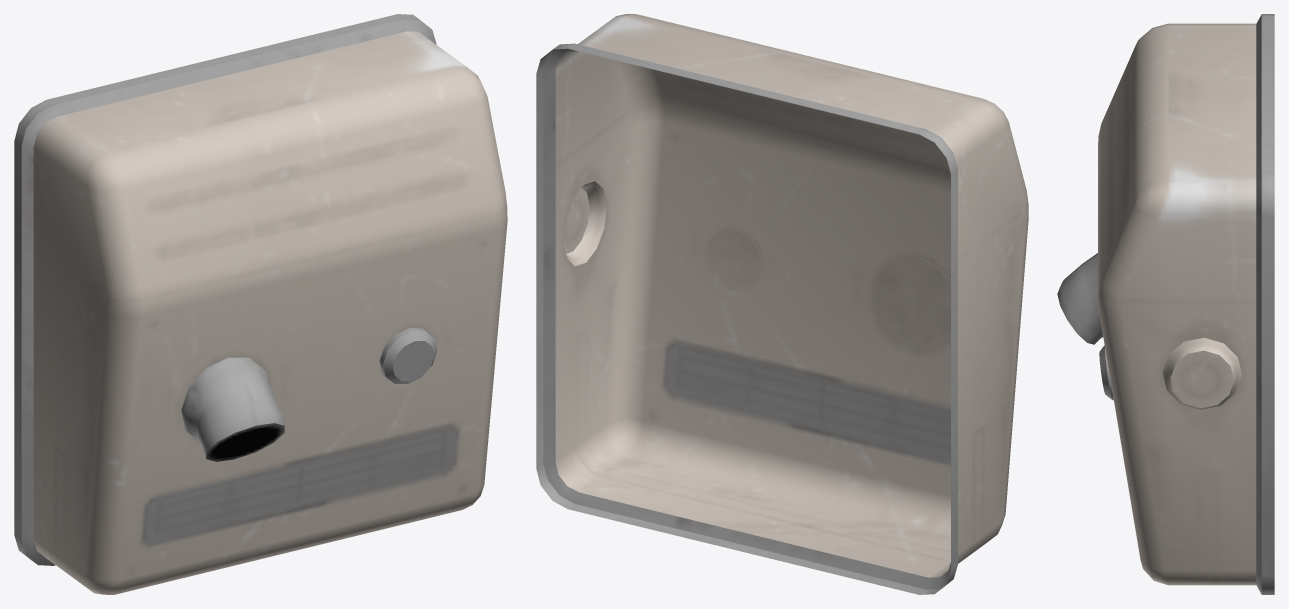
Rendered from SM_HandDryer.fbx.
3 views of the same model, side by side, from view 1: azimuth 30°, elevation 25°; view 2: azimuth 150°, elevation 25°; view 3: azimuth 270°, elevation 25° (orthographic). The views are drawn at different scales.
Visible parts, largest first — view 1: SM_HandDryer_LOD0; view 2: SM_HandDryer_LOD0; view 3: SM_HandDryer_LOD0.
Boxes of the visible parts, bbox=[...] form: SM_HandDryer_LOD0: bbox=[14, 14, 507, 594]; SM_HandDryer_LOD0: bbox=[536, 14, 1028, 594]; SM_HandDryer_LOD0: bbox=[1057, 14, 1274, 594].
Bounding box in the file's own units: 47.47 × 23.44 × 49.92.
